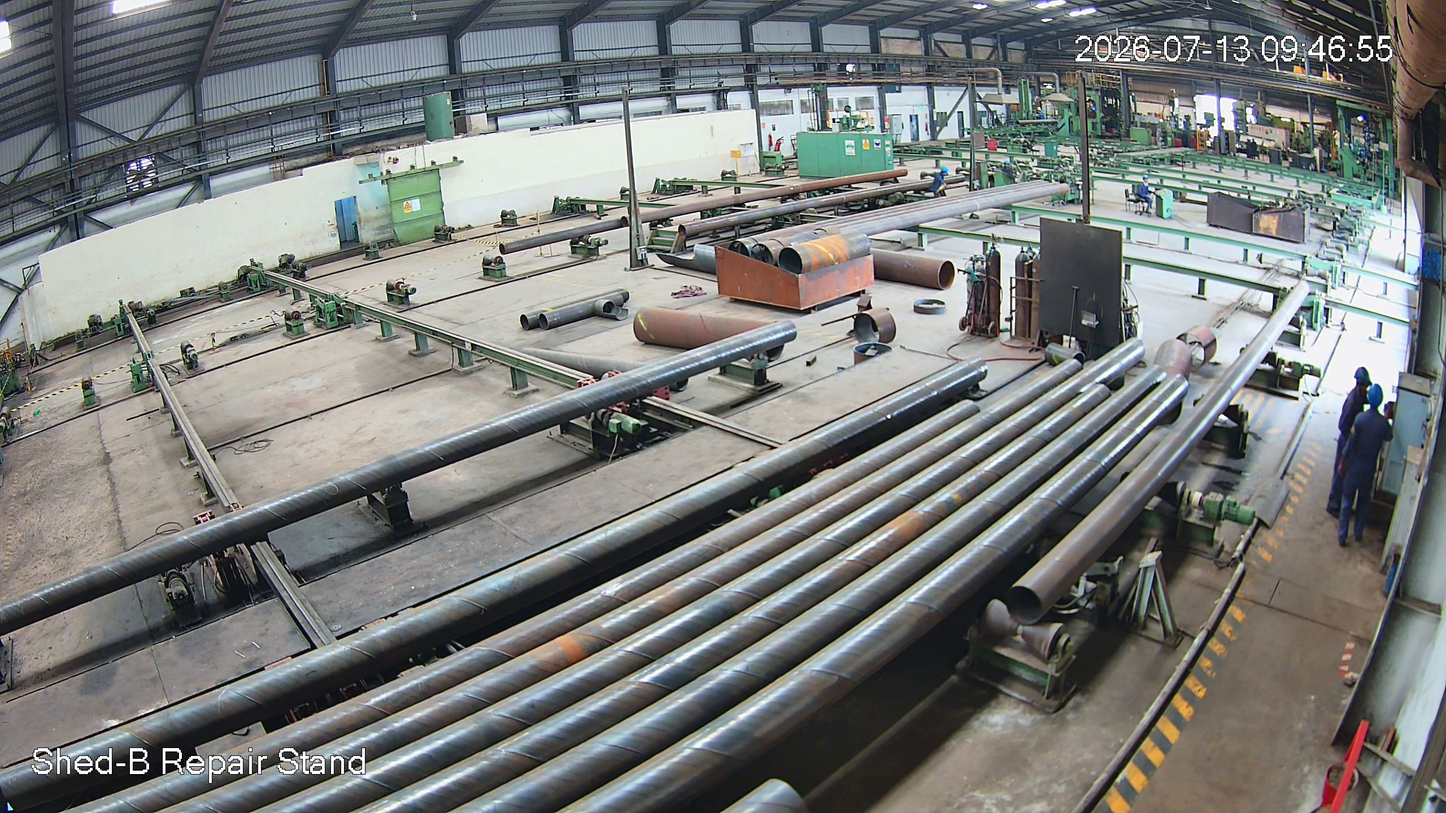Helmet: (1364, 381, 1386, 417), (939, 165, 949, 178)
Person: (1334, 385, 1392, 549), (931, 167, 950, 202)
